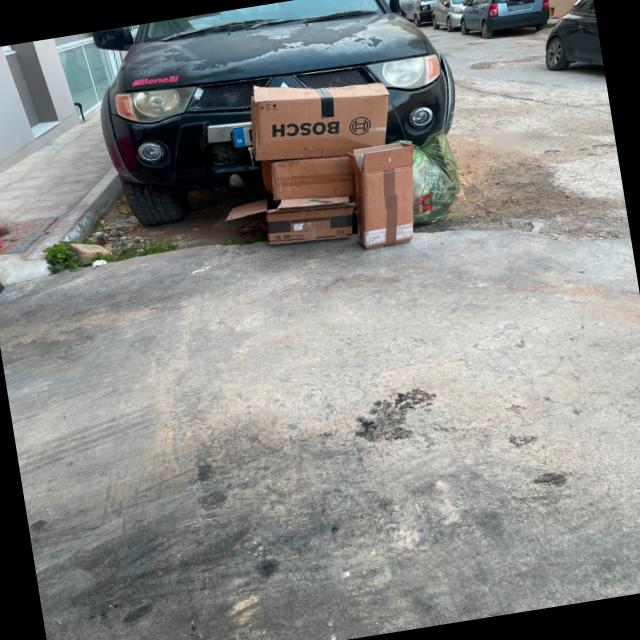grey_bag: (402, 129, 471, 230)
other_waste: (235, 61, 429, 266)
